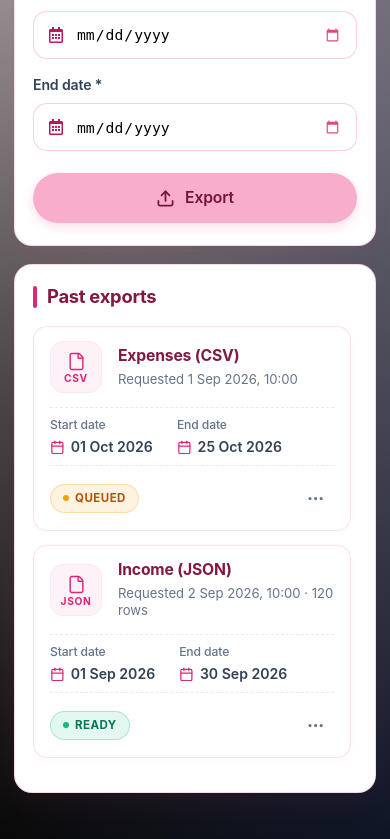
Test: DataExport -- past exports list › opens the dropdown upward on top to prevent clipping in scroll container
(page scrolled)
Click the button named "export actions" in the row of "Queued": (316, 498) left=298, top=480, right=334, bottom=516
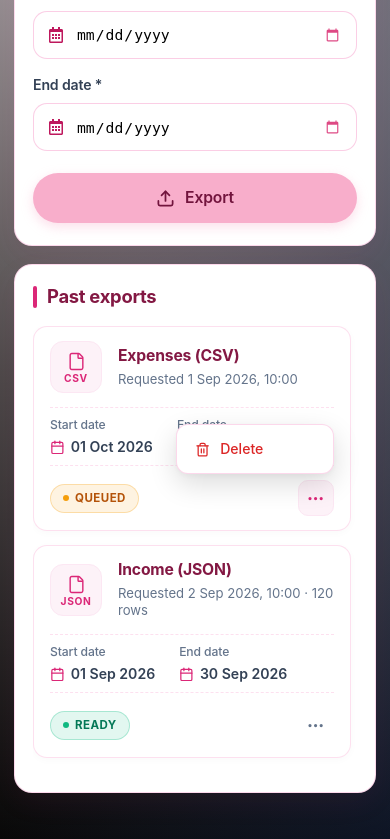
Check: the menu with class "data-export-menu-dropdown--up" is shown, box left=176, top=424, right=334, bottom=474
